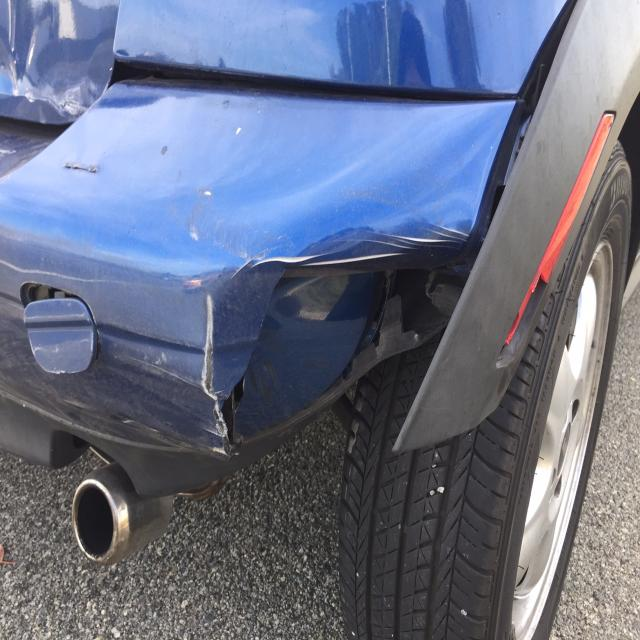misalignment: (466, 0, 577, 285), (111, 59, 456, 99)
scratch: (187, 186, 470, 282), (118, 276, 241, 460), (246, 353, 278, 408), (112, 412, 163, 435), (159, 143, 169, 157), (234, 125, 243, 139)
tear: (315, 265, 460, 402), (220, 265, 292, 445), (60, 157, 100, 174)
